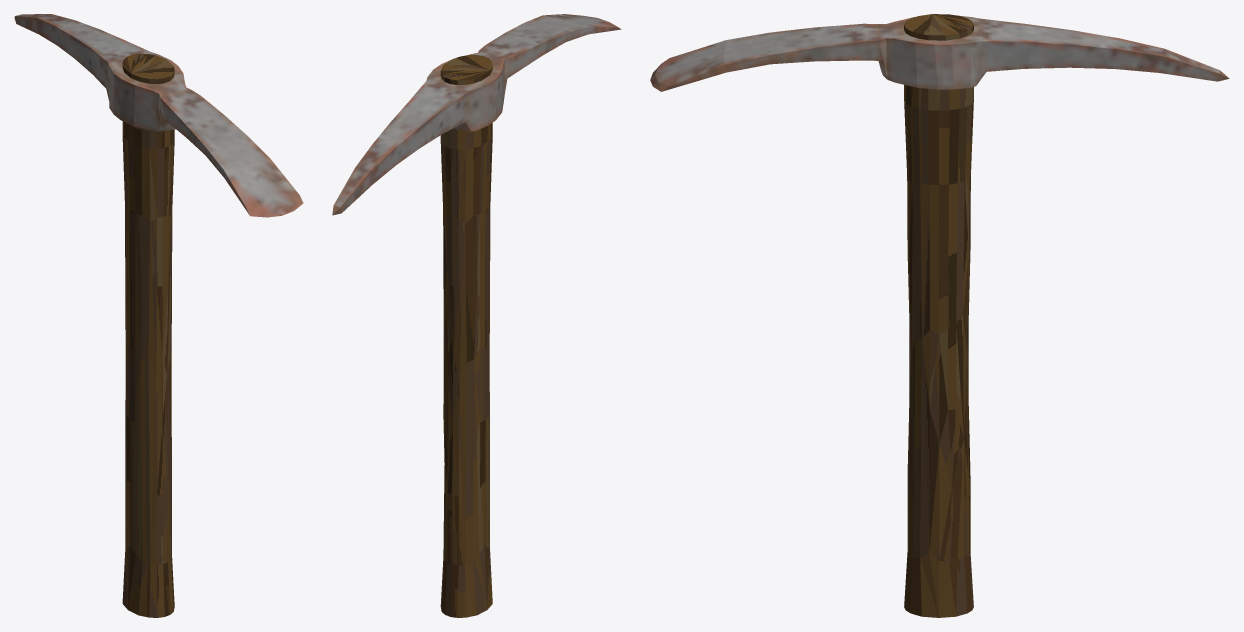
Rendered from pickaxe.obj.
3 renders of one model, left to right at view 1: azimuth 30°, elevation 25°; view 2: azimuth 150°, elevation 25°; view 3: azimuth 270°, elevation 25°, orthographic. The views are drawn at different scales.
Parts seen in each view (by area): view 1: pickaxe; view 2: pickaxe; view 3: pickaxe.
Part boxes in pixels (<box>): pickaxe: <box>14,14,303,617</box>; pickaxe: <box>332,14,621,617</box>; pickaxe: <box>650,14,1229,617</box>.
Bounding box in the file's own units: 0.0311 × 0.2829 × 0.2552.
